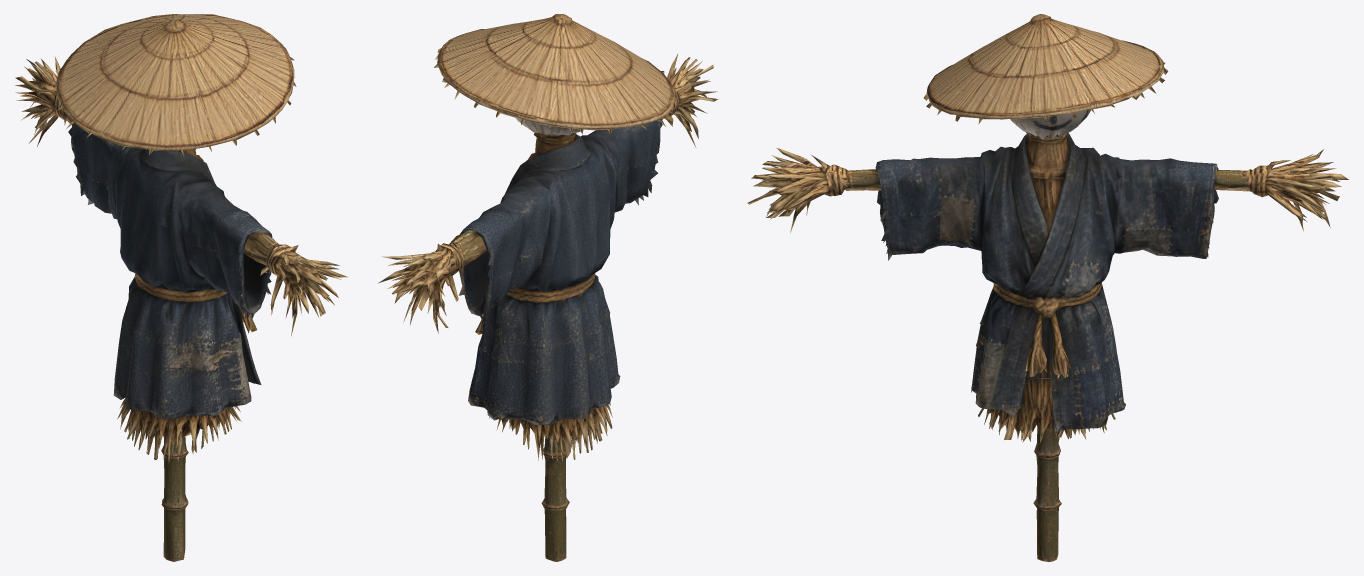
The model's file is scarecrow.glb.
3 views of the same model, side by side, from view 1: azimuth 30°, elevation 25°; view 2: azimuth 150°, elevation 25°; view 3: azimuth 270°, elevation 25° (orthographic).
Parts seen in each view (by area): view 1: tripo_node_24f55188-475c-43ae-b00c-3c5073b1cb7d; view 2: tripo_node_24f55188-475c-43ae-b00c-3c5073b1cb7d; view 3: tripo_node_24f55188-475c-43ae-b00c-3c5073b1cb7d.
Part boxes in pixels (x1=…): tripo_node_24f55188-475c-43ae-b00c-3c5073b1cb7d: x1=15, y1=14, x2=347, y2=561; tripo_node_24f55188-475c-43ae-b00c-3c5073b1cb7d: x1=378, y1=14, x2=718, y2=561; tripo_node_24f55188-475c-43ae-b00c-3c5073b1cb7d: x1=747, y1=14, x2=1348, y2=561.
Size of the model in its own units: 0.7159 by 1.7 by 1.71.
1 material, 1 textured.
